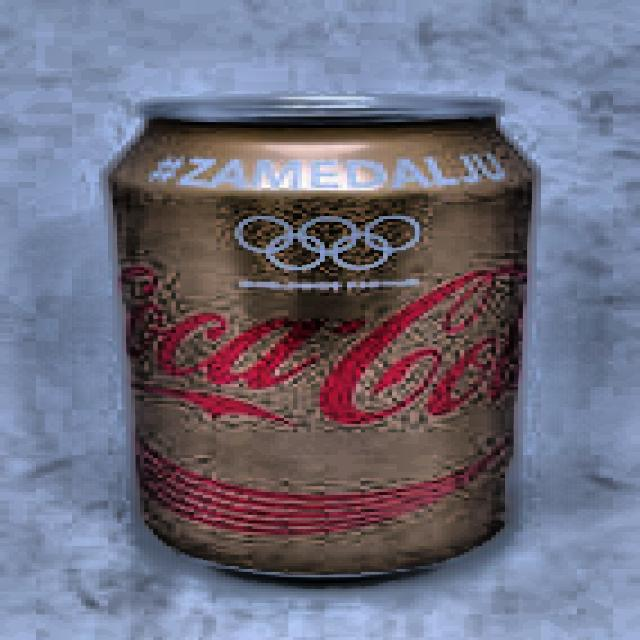Cans: (66, 61, 599, 604)
